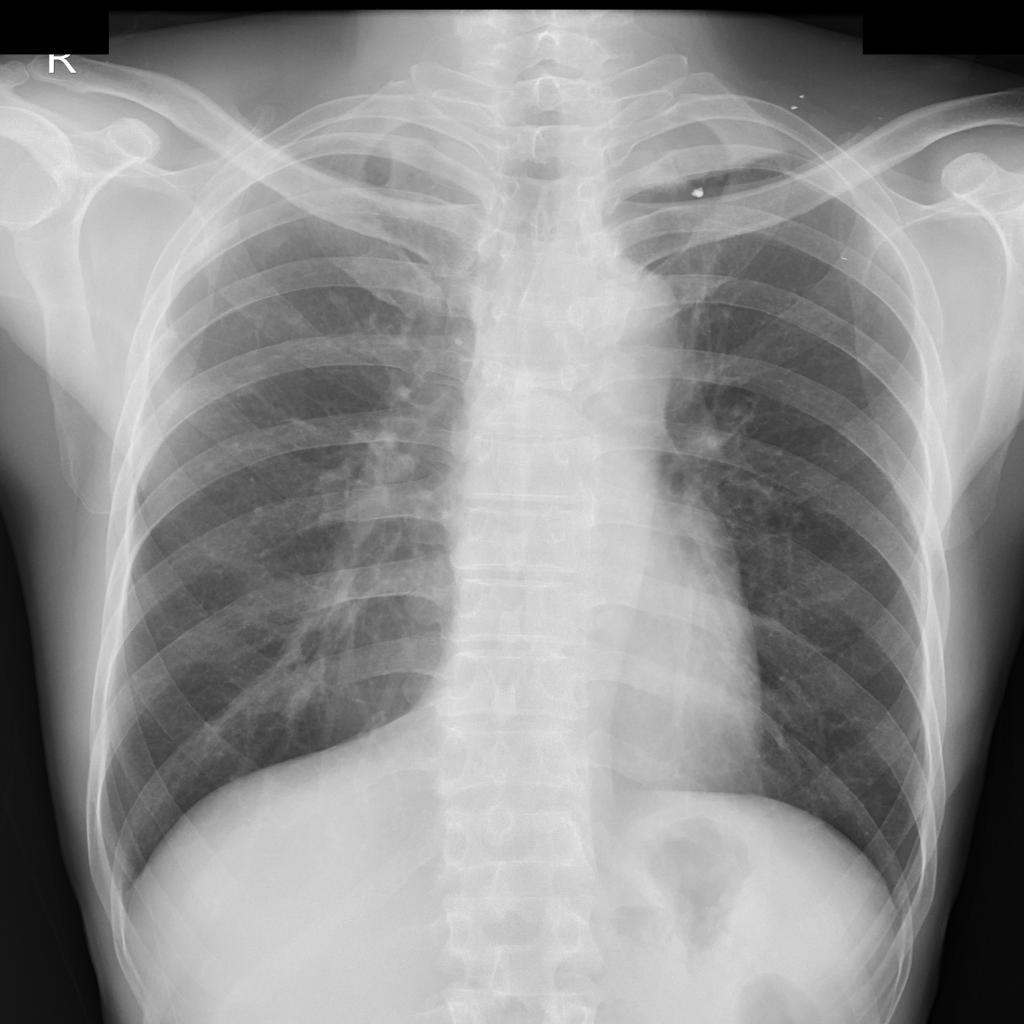Nodule: (693, 183, 708, 200)
